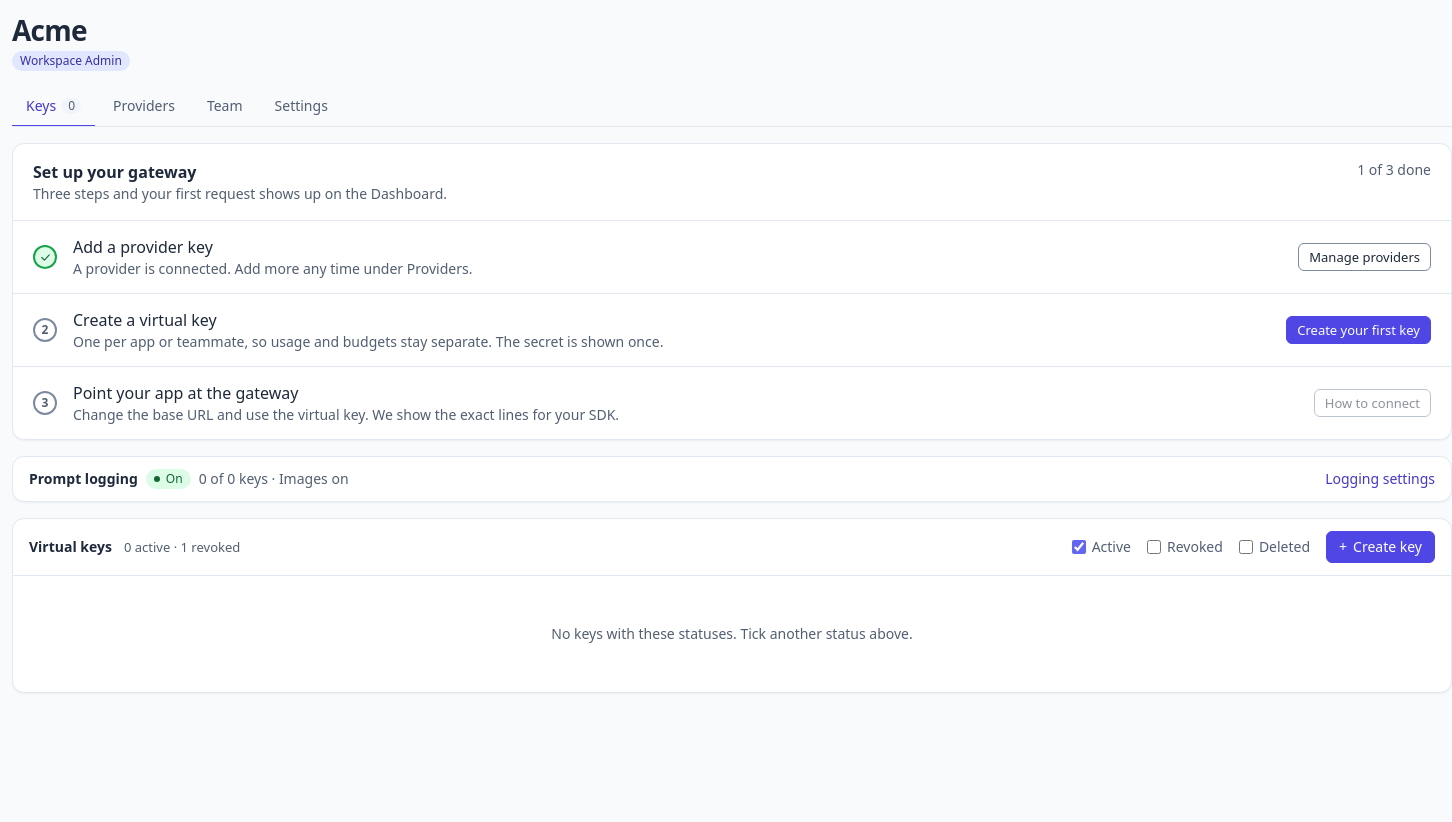
Test: Workspace -> per-key logging › does not offer logging controls for a revoked key
Click the checkbox labelled "Revoked" at (1154, 547), box [1147,540,1161,554]
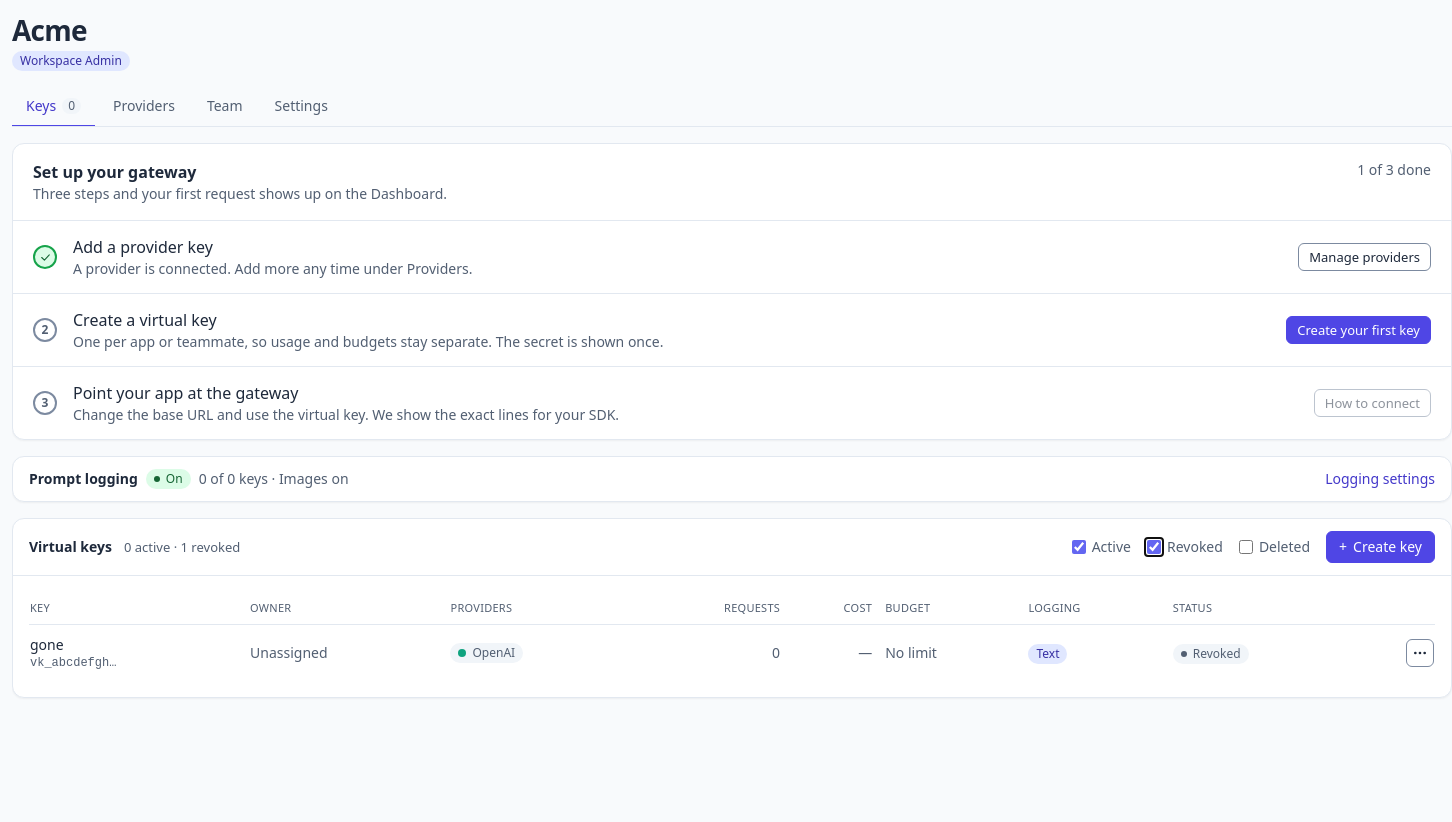
Click the button named "More actions for gone" at (1420, 653), box [1406,639,1434,667]
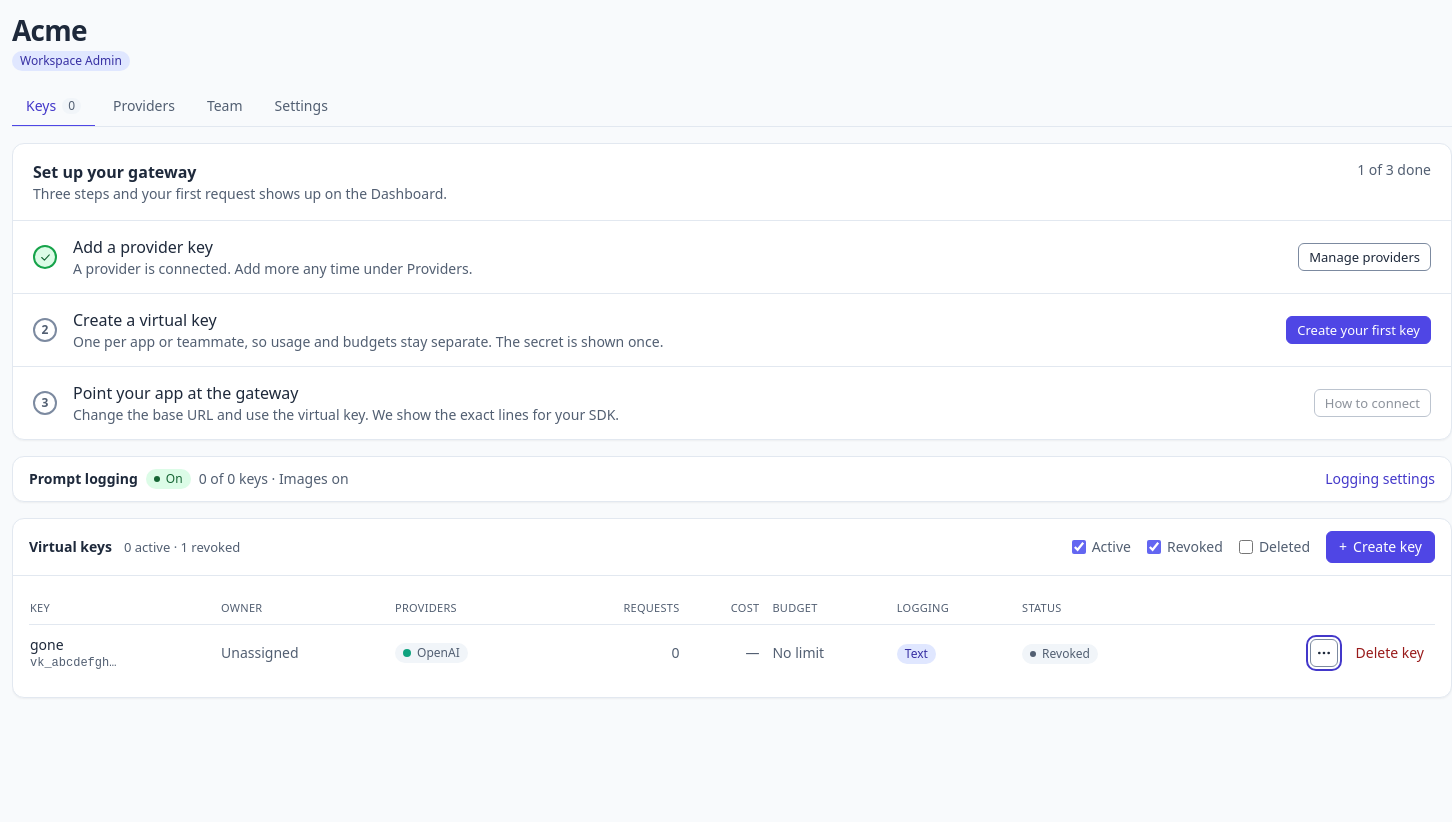
Check: the menu item "Delete key" is shown, box [1356,643,1424,662]
